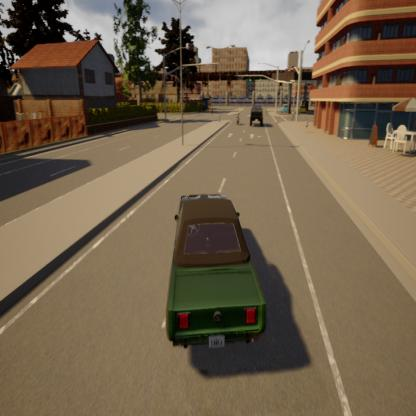Cars: (166, 191, 266, 347), (250, 102, 263, 128), (236, 108, 242, 124), (283, 104, 289, 115)
Pedestrian: (305, 116, 309, 134)
